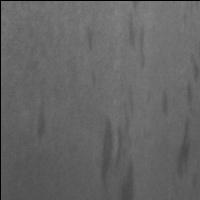inclusion: (163, 52, 199, 193), (111, 83, 145, 200), (93, 112, 117, 195), (125, 3, 148, 72), (28, 87, 53, 147), (156, 86, 174, 123), (80, 24, 98, 54)
